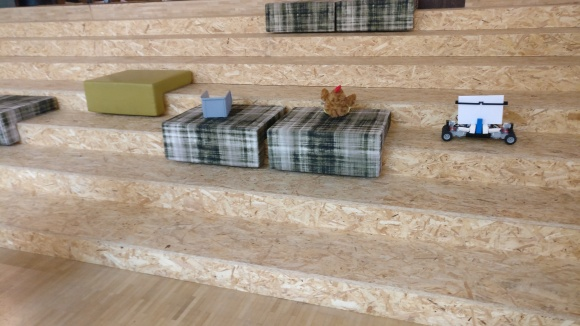car: (442, 94, 518, 146)
chicken: (319, 82, 357, 119)
tray: (199, 89, 234, 119)
